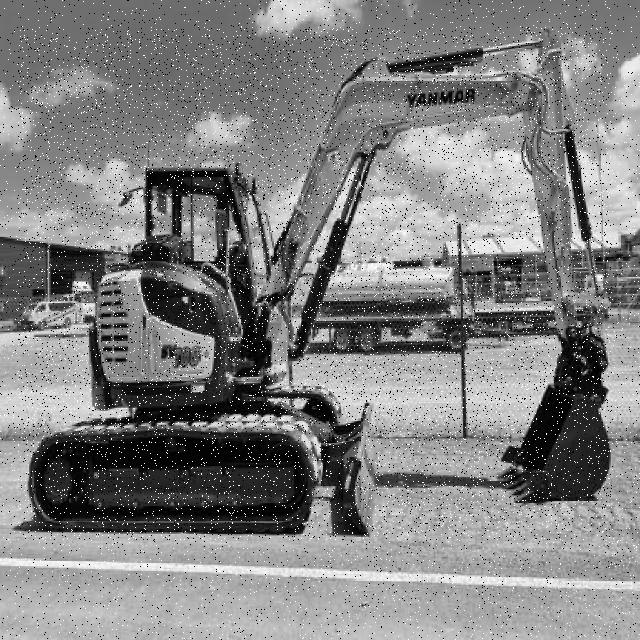Construction Equipment: (18, 27, 611, 540)
